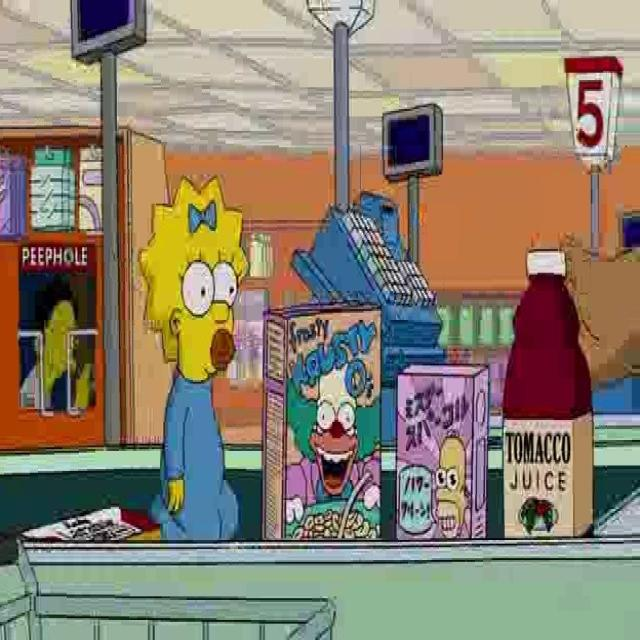Krusty the Clown: (292, 356, 379, 502)
Maggie Simpson: (137, 179, 250, 385)
